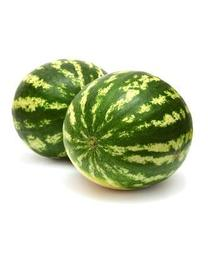watermelon: (62, 74, 194, 190), (12, 60, 120, 163)
